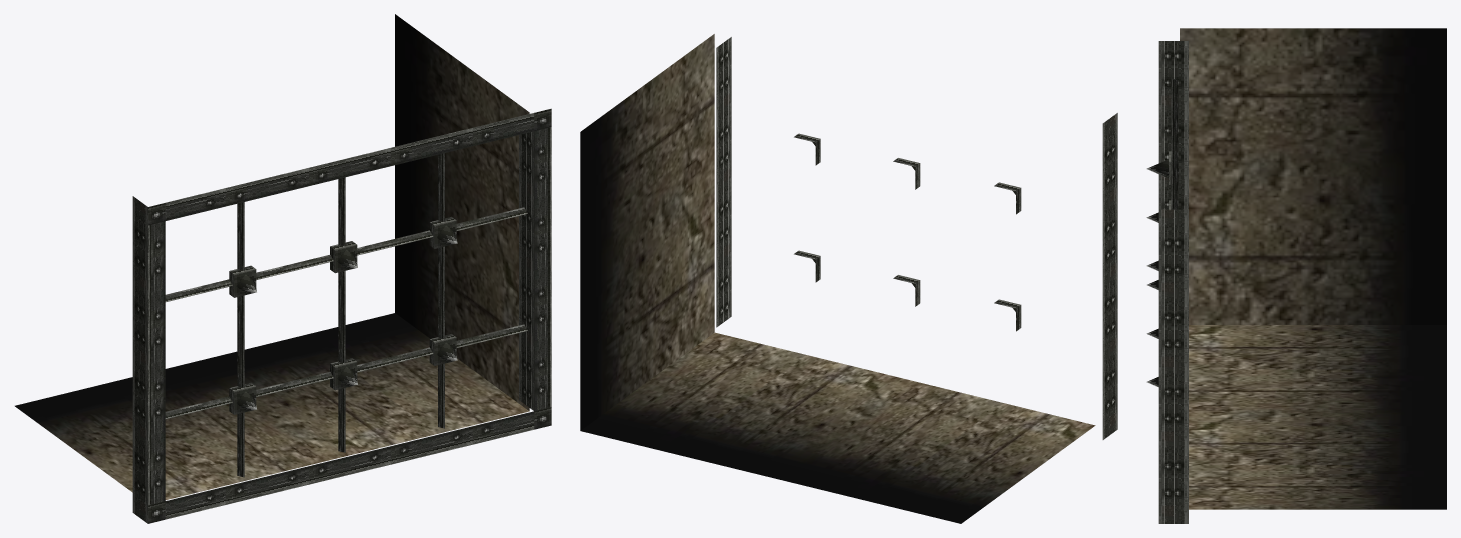
The picture shows the model from 3 angles, left to right: view 1: azimuth 30°, elevation 25°; view 2: azimuth 150°, elevation 25°; view 3: azimuth 270°, elevation 25°; orthographic projection.
Visible parts, largest first — view 1: model_Object10; view 2: model_Object10; view 3: model_Object10.
Part boxes in pixels (left/top/right/bottom): model_Object10: left=15, top=14, right=551, bottom=523; model_Object10: left=580, top=34, right=1117, bottom=523; model_Object10: left=1146, top=28, right=1446, bottom=523.
Bounding box in the file's own units: 4 × 3 × 2.6.
2 materials, 2 textured.
